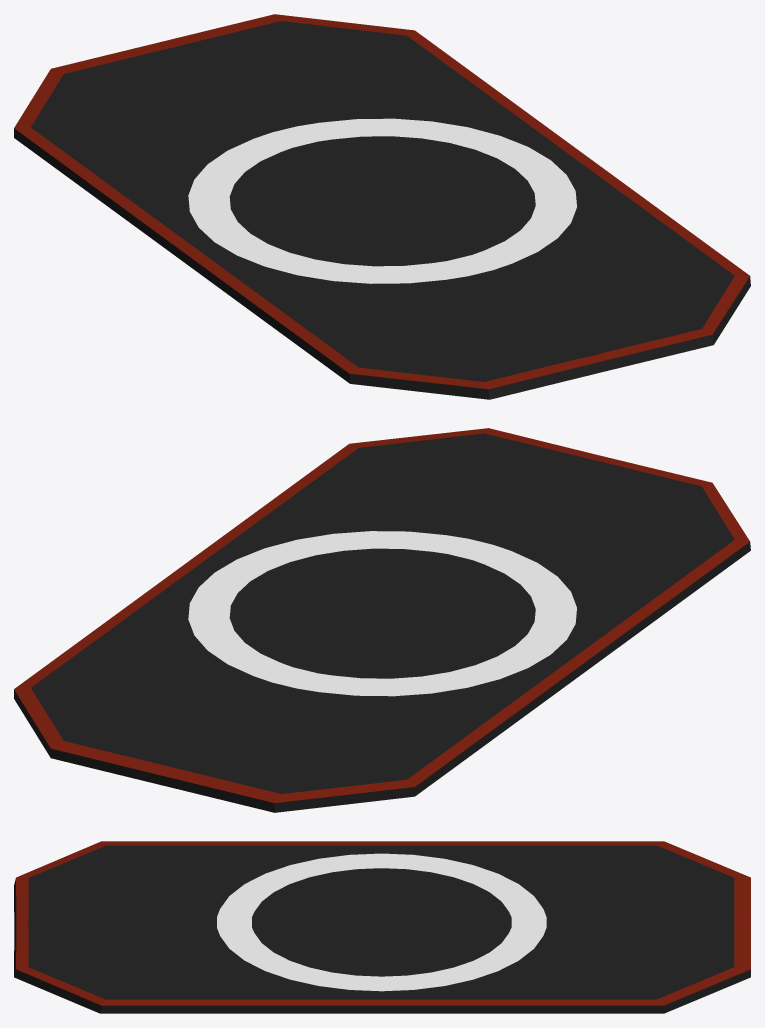
The model's file is landingpad.glb.
3 views of the same model, one above another, from view 1: azimuth 30°, elevation 25°; view 2: azimuth 150°, elevation 25°; view 3: azimuth 270°, elevation 25° (orthographic). The views are drawn at different scales.
Visible parts, largest first — view 1: Cube; view 2: Cube; view 3: Cube.
Boxes of the visible parts, x1=… form: Cube: x1=14, y1=14, x2=750, y2=399; Cube: x1=14, y1=428, x2=750, y2=812; Cube: x1=14, y1=841, x2=750, y2=1013.
Size of the model in its own units: 20 by 0.5195 by 37.92.
1 material, 1 textured.
